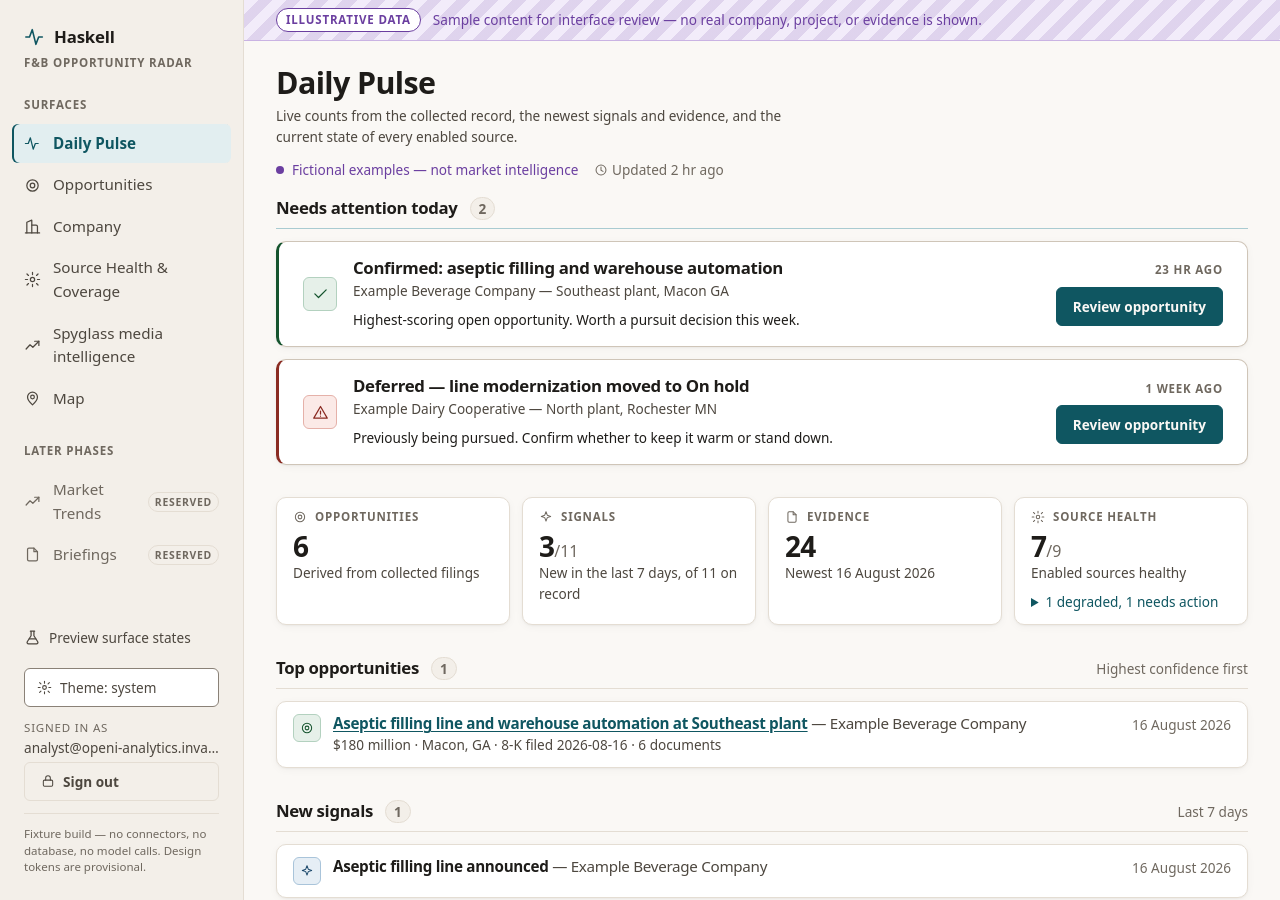
Test: summary metrics › moves the source list behind a disclosure
The width and height of the screenshot is (1280, 900).
Expected: the heading "Source health" is shown, [1031, 509, 1157, 524]
Click the heading "1 degraded, 1 needs action" at (1131, 602), box [1031, 591, 1231, 612]
(page scrolled)
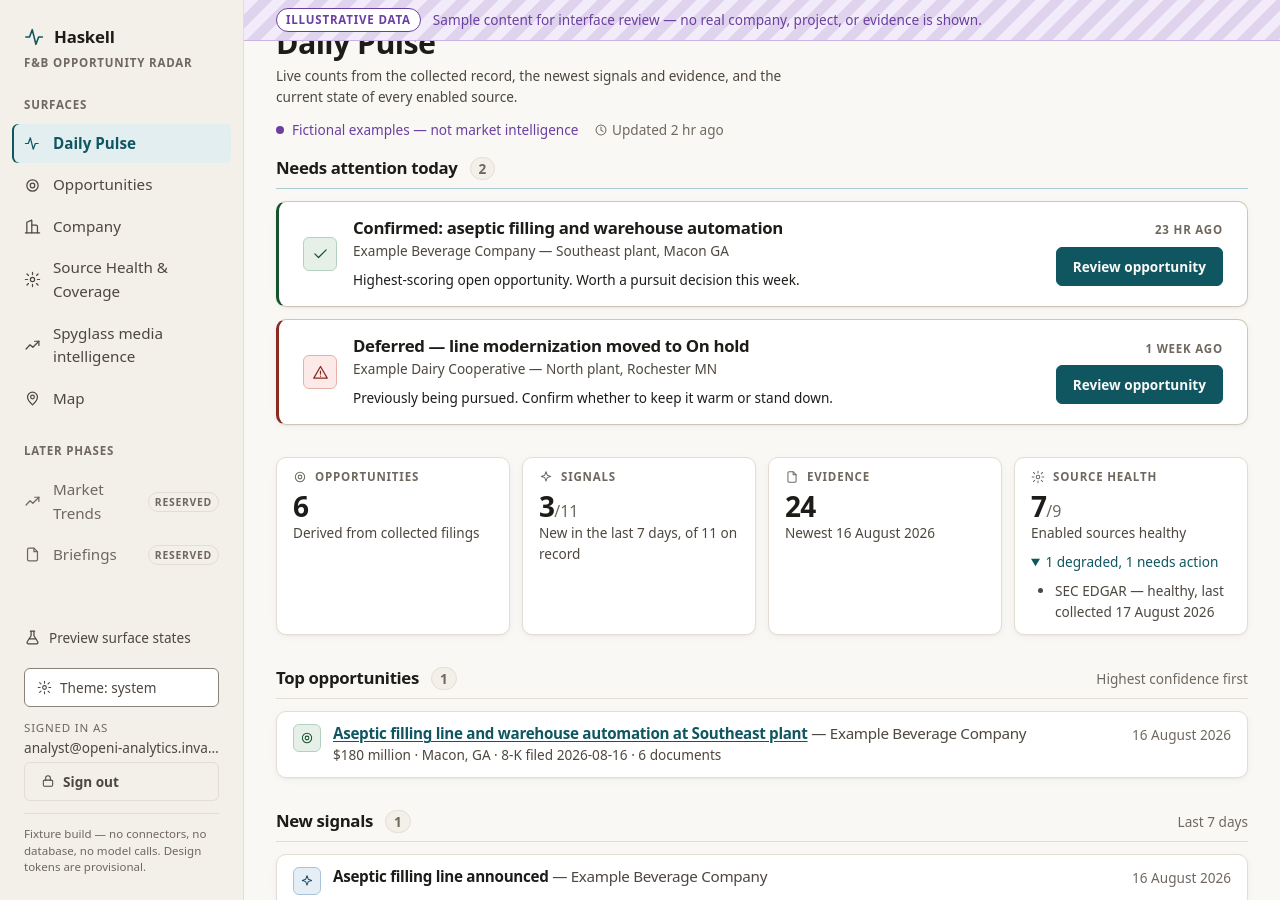
Result: the list item is shown at [1055, 580, 1231, 622]
